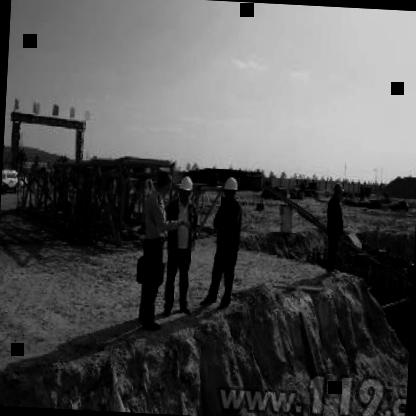helmet: (178, 176, 194, 203), (222, 175, 238, 200), (331, 180, 345, 202)
